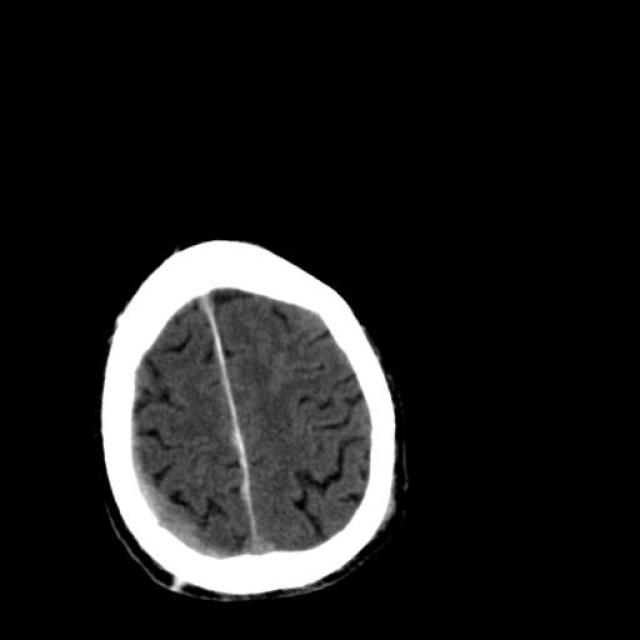Subdural: (113, 338, 225, 572)
